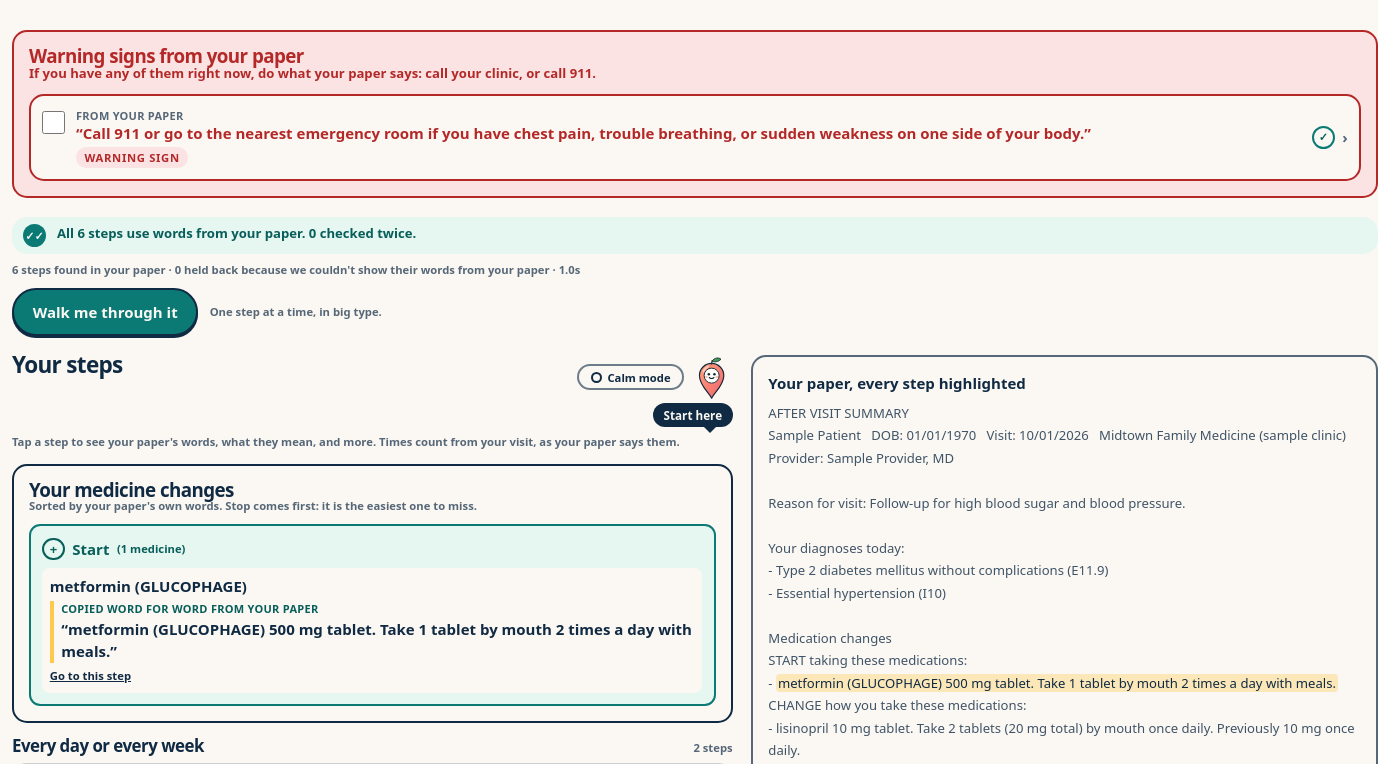
it: Done, Not yet, Ask a person › Ask a person on a warning sign repeats only what the paper says to do, never a later question
Click the button "Walk me through it" at (105, 312), box left=12, top=288, right=198, bottom=336
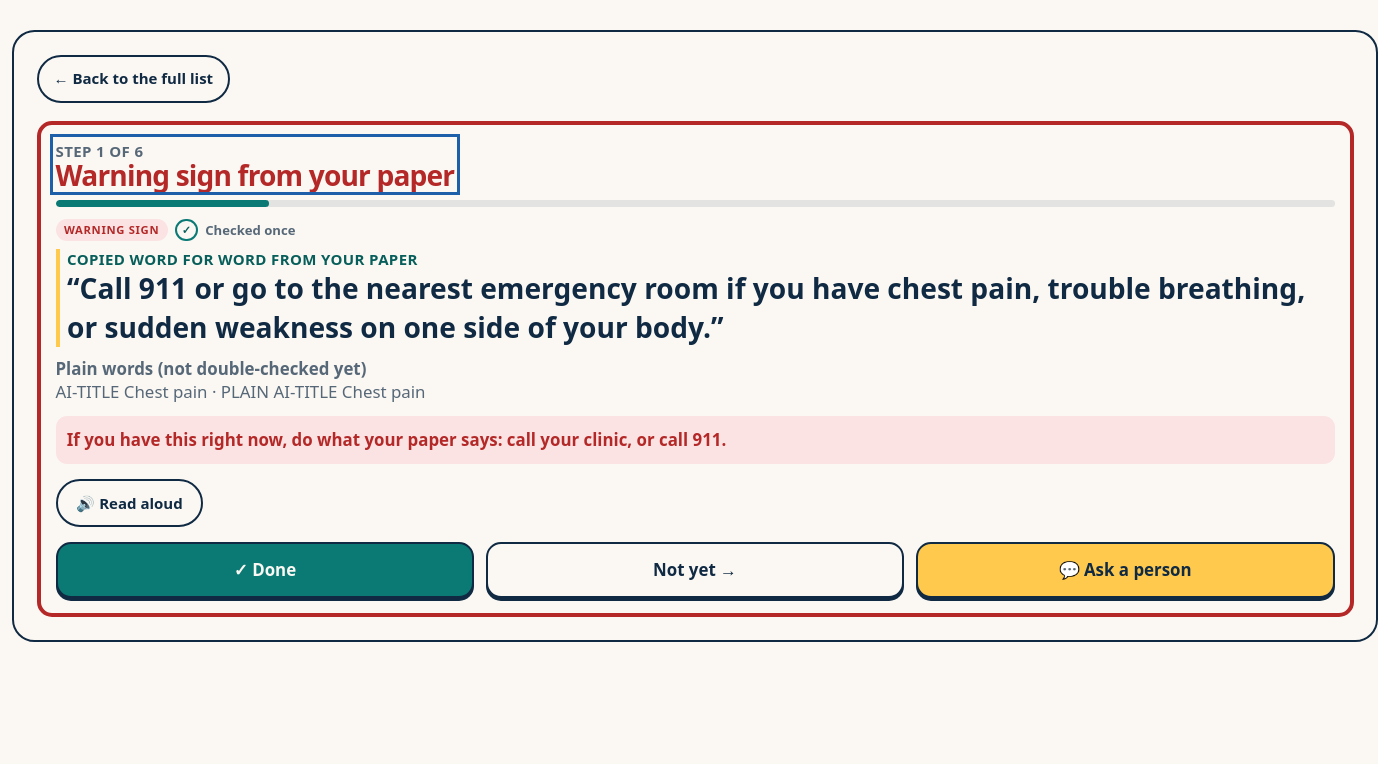
Now the button "💬 Ask a person" is shown
Click the button "💬 Ask a person" at (1125, 570), box left=916, top=542, right=1334, bottom=598
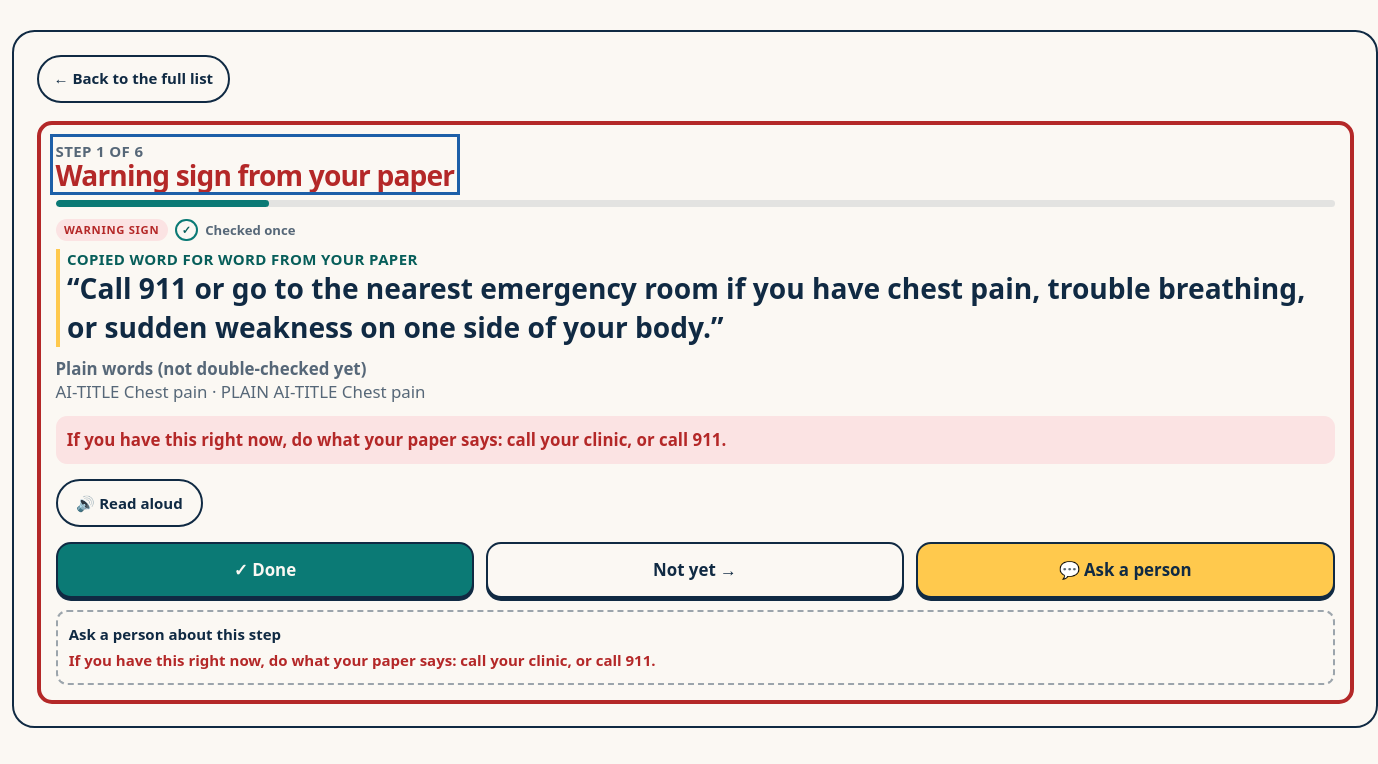
Now the element that starts with "Ask a person about this step" shows "call your clinic, or call 911", box left=69, top=650, right=656, bottom=670
